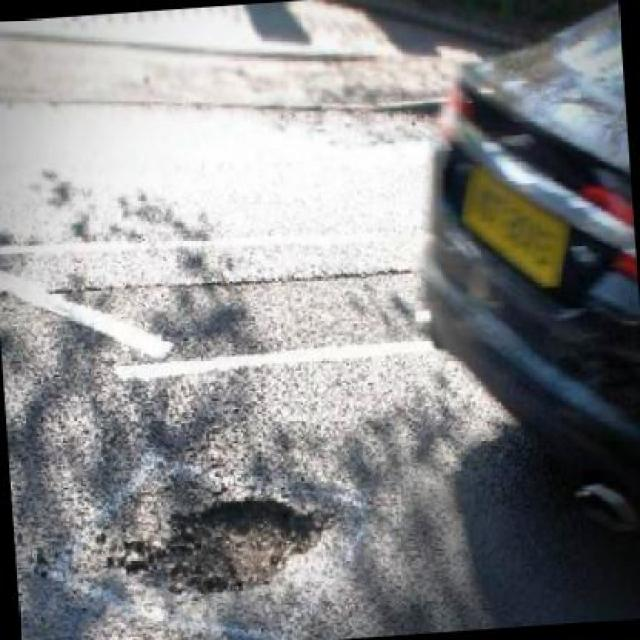pothole1: (127, 488, 341, 602), (385, 98, 446, 127)
